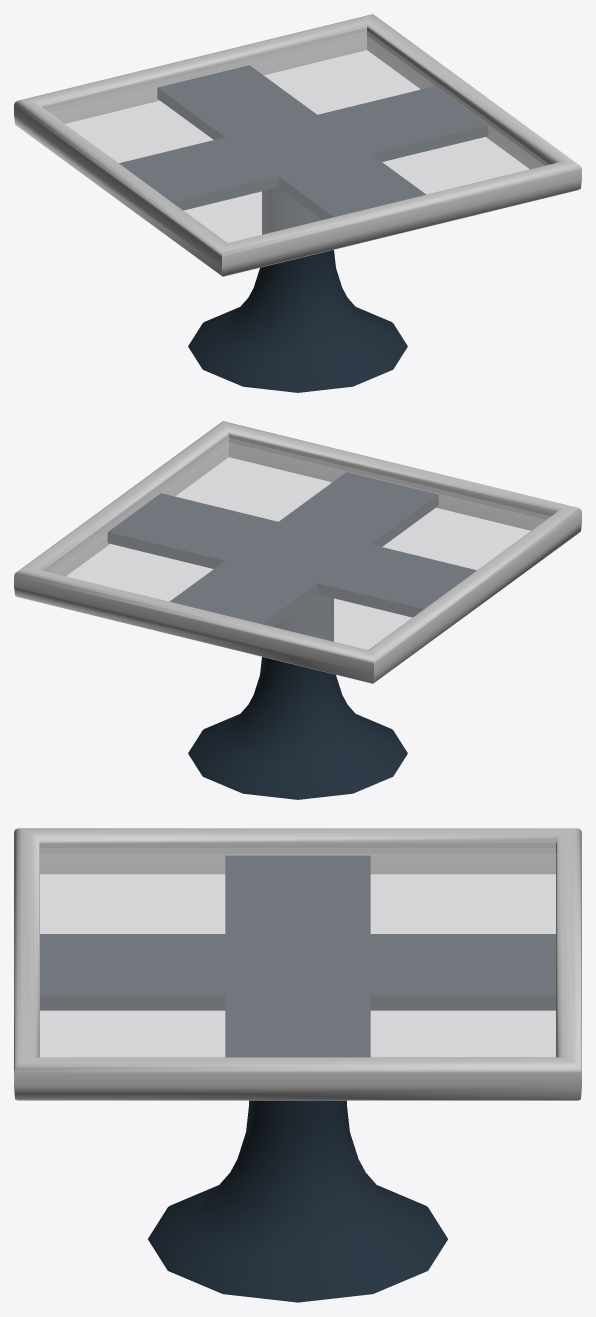
The model's file is Table-2.fbx.
The picture shows the model from 3 angles, top to bottom: view 1: azimuth 30°, elevation 25°; view 2: azimuth 150°, elevation 25°; view 3: azimuth 270°, elevation 25°; orthographic projection. The views are drawn at different scales.
Parts seen in each view (by area): view 1: 123; view 2: 123; view 3: 123.
Part boxes in pixels (left/top/right/bottom): 123: left=14, top=14, right=581, bottom=392; 123: left=14, top=421, right=581, bottom=799; 123: left=14, top=828, right=581, bottom=1302.
Bounding box in the file's own units: 1.3 × 0.7429 × 1.3.
